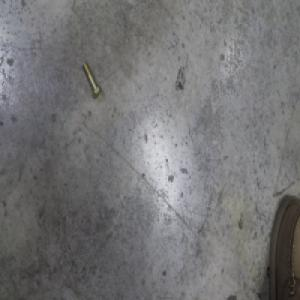Bolt: (82, 59, 102, 100)
